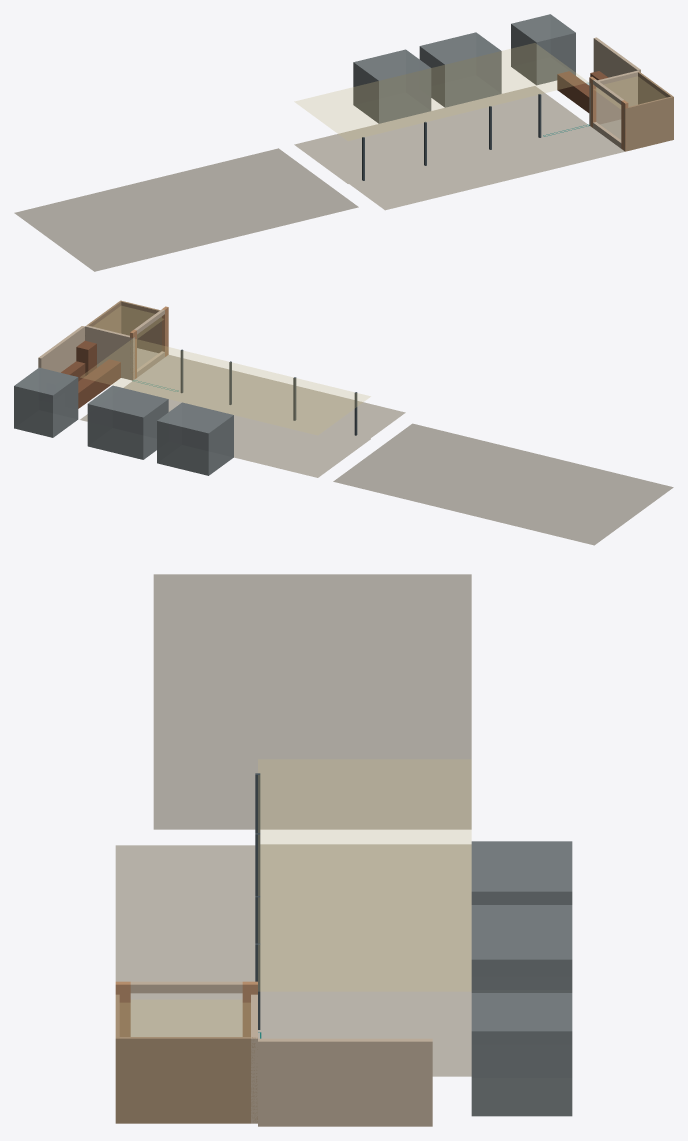
File: rooftop_truth_model_v01.glb
3 views of the same model, one above another, from view 1: azimuth 30°, elevation 25°; view 2: azimuth 150°, elevation 25°; view 3: azimuth 270°, elevation 25° (orthographic). The views are drawn at different scales.
Parts seen in each view (by area): view 1: west_unroofed_terrace, ceiling_level_2_main, main_hall_floor, south_mountain_terrace_band, core_toilet, core_stair, core_elevator, east_transition_floor, tea_terrace_boundary_wall, tea_bar_shared_wall, ceiling_level_1_tea_room, equipment_background_wall (+2 smaller); view 2: west_unroofed_terrace, ceiling_level_2_main, south_mountain_terrace_band, main_hall_floor, core_toilet, core_stair, core_elevator, tea_bar_shared_wall, tea_terrace_boundary_wall, equipment_background_wall, ceiling_level_1_tea_room, bar_body_fixed_run (+3 smaller); view 3: west_unroofed_terrace, ceiling_level_2_main, main_hall_floor, south_mountain_terrace_band, equipment_background_wall, core_elevator, tea_background_wall, core_stair, core_toilet, ceiling_level_1_tea_room, east_transition_floor, tea_window_head_wall (+1 smaller).
Boxes of the visible parts, x1,y1,x2,y2 form: west_unroofed_terrace: [14, 148, 358, 271]; ceiling_level_2_main: [294, 43, 588, 140]; main_hall_floor: [294, 97, 543, 183]; south_mountain_terrace_band: [349, 125, 624, 210]; core_toilet: [353, 49, 431, 123]; core_stair: [419, 32, 501, 107]; core_elevator: [511, 14, 575, 85]; east_transition_floor: [490, 86, 588, 136]; tea_terrace_boundary_wall: [624, 96, 673, 151]; tea_bar_shared_wall: [589, 70, 639, 126]; ceiling_level_1_tea_room: [594, 76, 665, 108]; equipment_background_wall: [593, 37, 640, 77]; west_unroofed_terrace: [333, 423, 673, 545]; ceiling_level_2_main: [80, 338, 370, 434]; south_mountain_terrace_band: [133, 355, 405, 438]; main_hall_floor: [168, 392, 370, 477]; core_toilet: [157, 402, 233, 475]; core_stair: [87, 385, 168, 459]; core_elevator: [14, 367, 78, 437]; tea_bar_shared_wall: [85, 325, 134, 380]; tea_terrace_boundary_wall: [120, 300, 167, 353]; equipment_background_wall: [38, 326, 84, 372]; ceiling_level_1_tea_room: [93, 306, 163, 338]; bar_body_fixed_run: [78, 359, 120, 404]; west_unroofed_terrace: [153, 574, 471, 829]; ceiling_level_2_main: [258, 759, 471, 991]; main_hall_floor: [258, 844, 471, 1032]; south_mountain_terrace_band: [115, 845, 255, 1036]; equipment_background_wall: [258, 1038, 432, 1126]; core_elevator: [471, 993, 572, 1116]; tea_background_wall: [115, 1037, 257, 1123]; core_stair: [471, 905, 572, 992]; core_toilet: [471, 841, 572, 904]; ceiling_level_1_tea_room: [120, 1000, 250, 1036]; east_transition_floor: [258, 1032, 471, 1076]; tea_window_head_wall: [130, 981, 242, 993].
Size of the model in its own units: 37.64 by 3.02 by 13.16.
